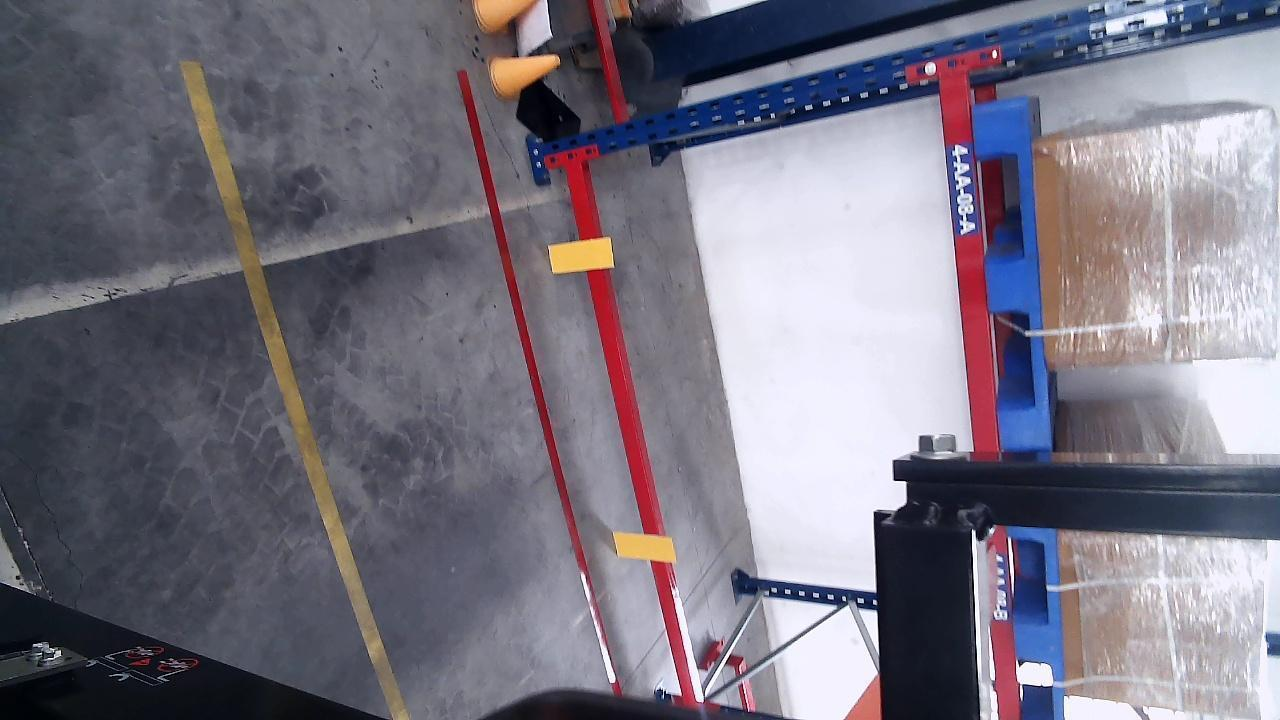red_line: (457, 68, 622, 697)
yellow_line: (180, 60, 406, 720)
